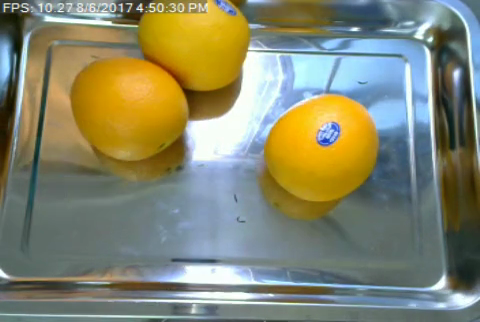Orange: (71, 55, 191, 161), (262, 94, 377, 202), (136, 1, 250, 94)
